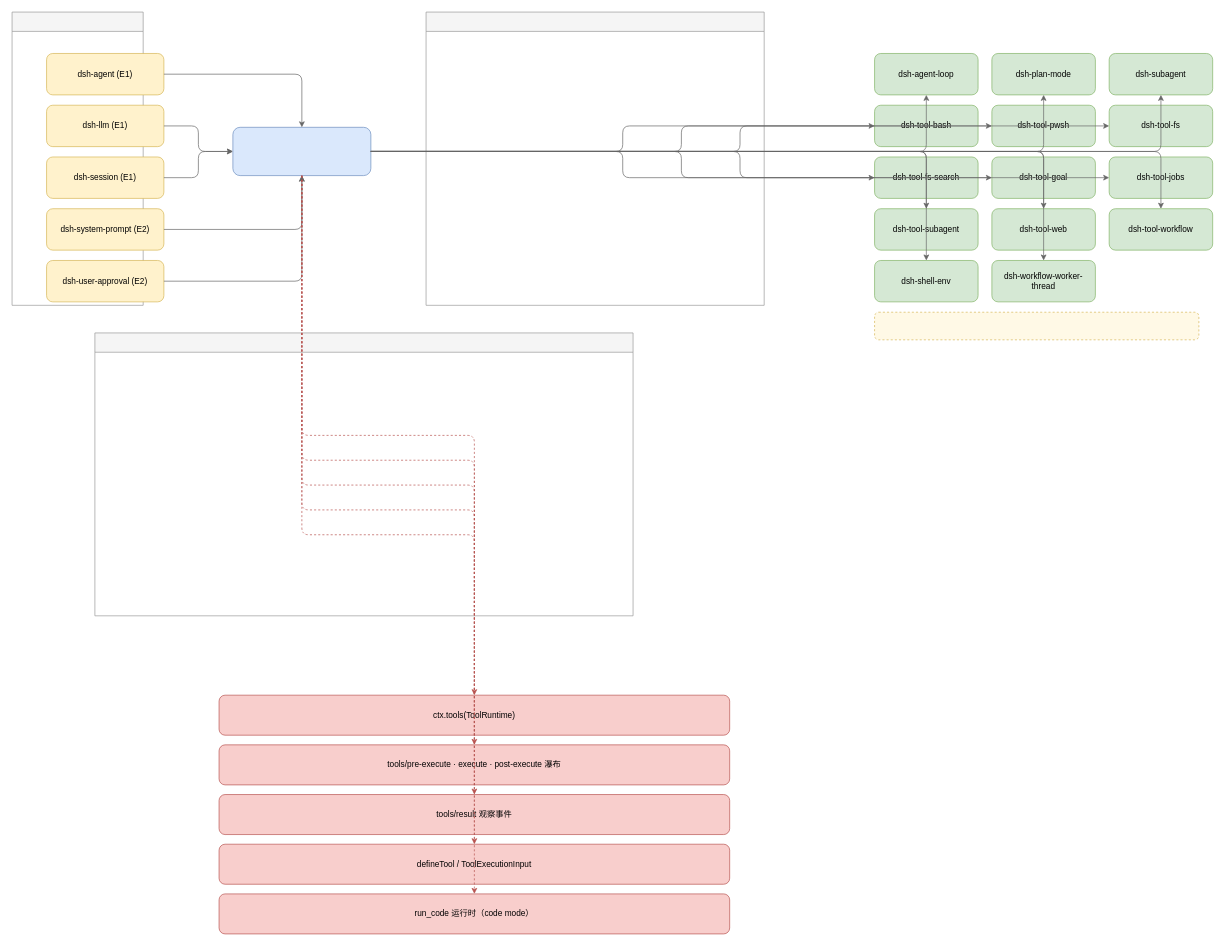
This 1225x946 diagram has some shape labels left out. The box of each missing label's shape, as (x1, y1, x2, y2) in pixels:
@deepseek-ai/dsh-tools: (232, 127, 371, 176)
… 等共 10 个下游: (874, 312, 1199, 340)
上游依赖 upstream (E1/E2/E3): (11, 11, 143, 305)
下游被依赖 dependents: (425, 11, 764, 305)
提供服务 provides（关键项）: (94, 332, 633, 616)
